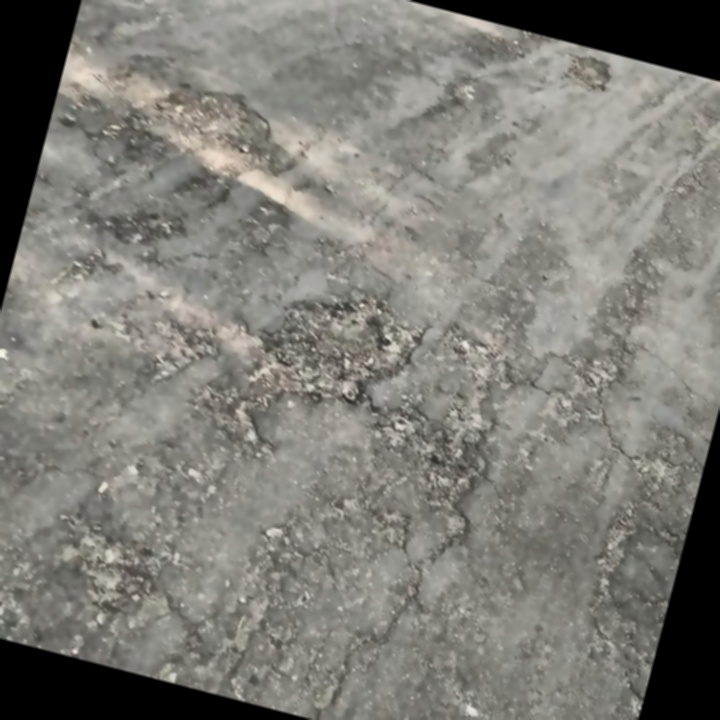pothole: (238, 270, 416, 424), (146, 72, 281, 160), (557, 47, 619, 98)
